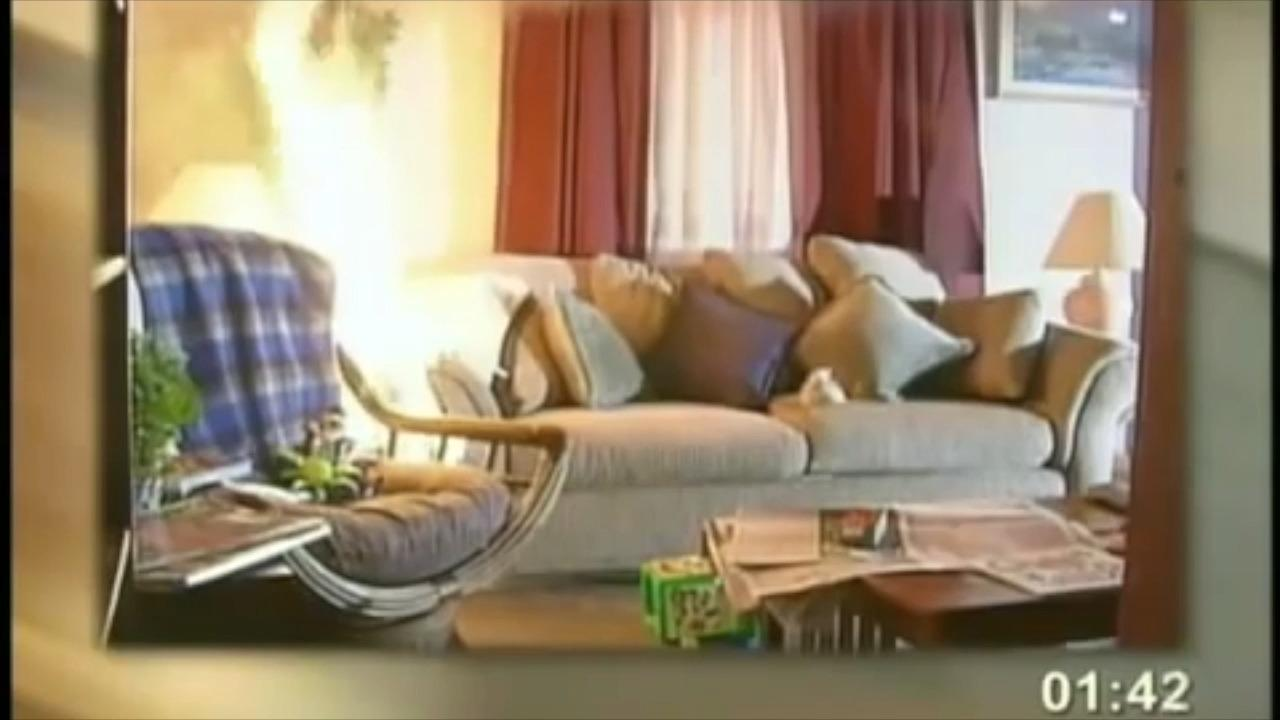fire: (255, 0, 457, 439)
